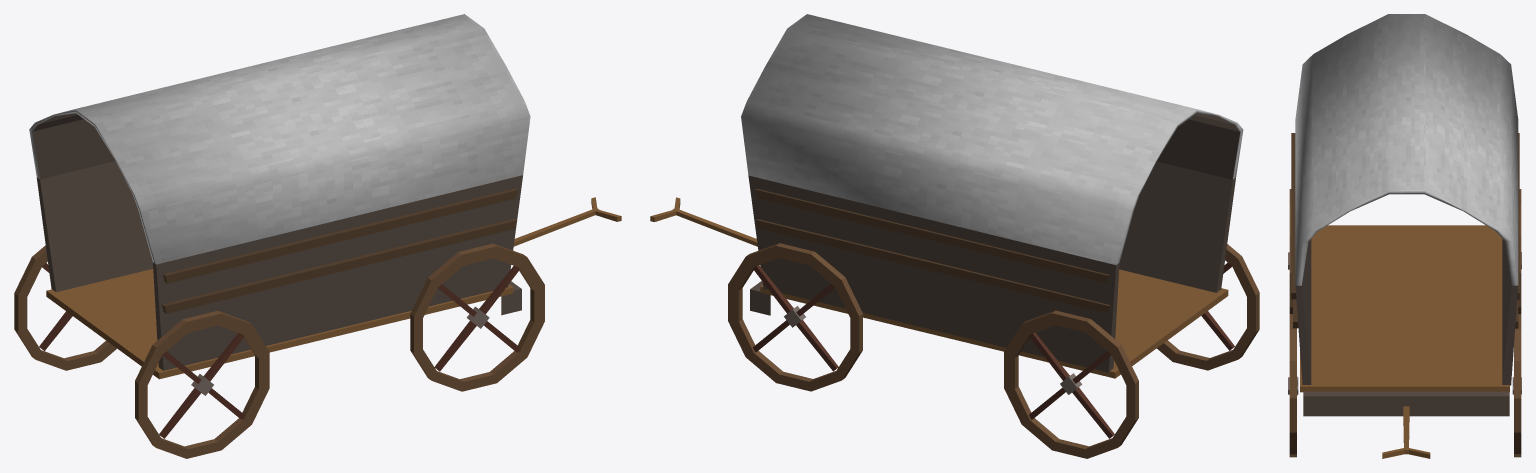
Rendered from WesternCart_001.glb.
3 renders of one model, left to right at view 1: azimuth 30°, elevation 25°; view 2: azimuth 150°, elevation 25°; view 3: azimuth 270°, elevation 25°, orthographic. The views are drawn at different scales.
Parts seen in each view (by area): view 1: WesternCart_0012; view 2: WesternCart_0012; view 3: WesternCart_0012.
Boxes of the visible parts, left/top/right/bottom form: WesternCart_0012: left=14, top=14, right=621, bottom=458; WesternCart_0012: left=650, top=14, right=1259, bottom=458; WesternCart_0012: left=1288, top=14, right=1521, bottom=458.
Bounding box in the file's own units: 6.09 × 3.35 × 2.49.
Materials: 3 (3 with a texture image).
